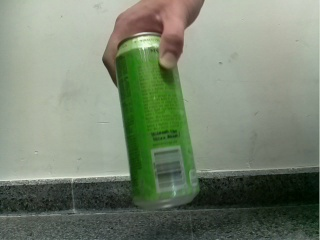botella plastico: (114, 32, 200, 210)
